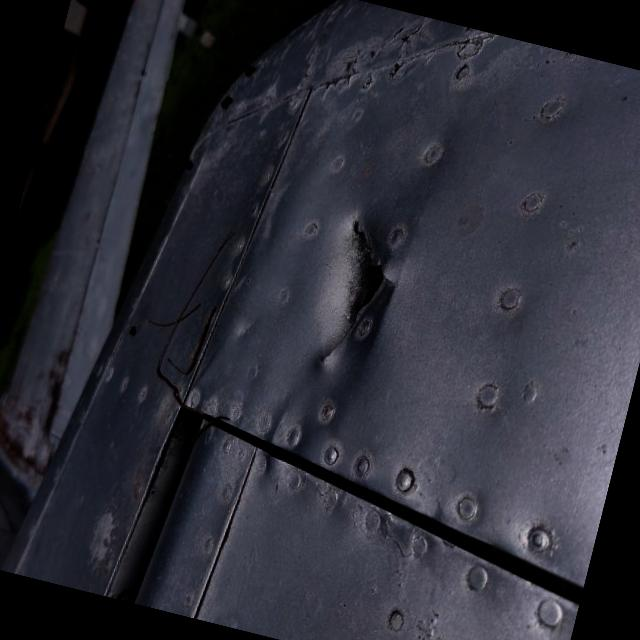crack: (180, 197, 398, 376)
